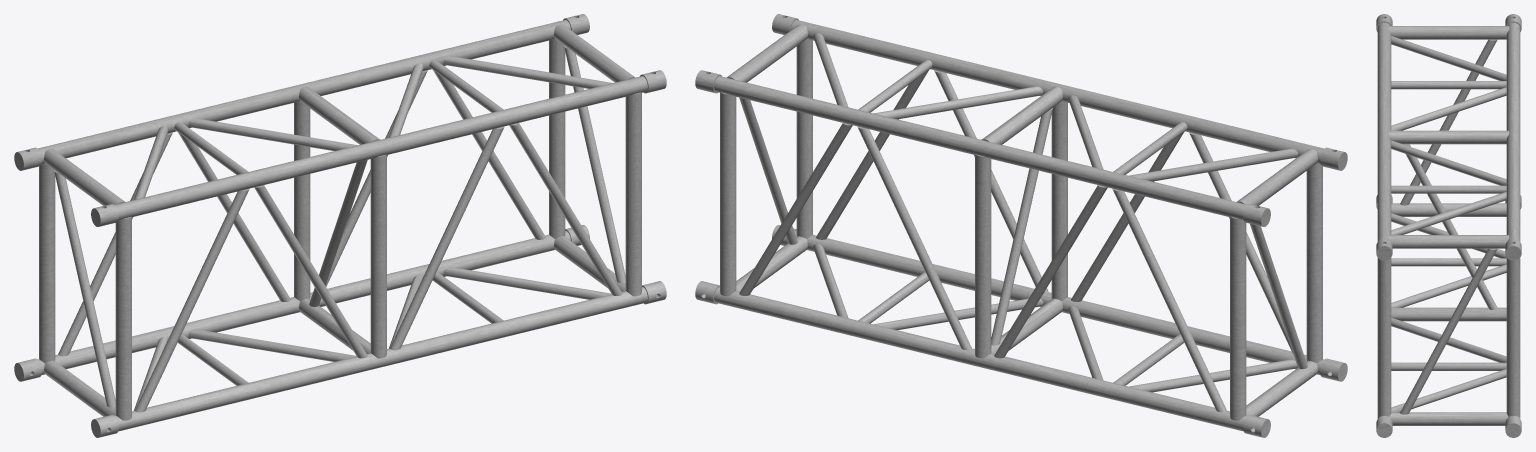
Rendered from Milos_M760_R_2000_truss_section-608367a0.glb.
3 views of the same model, side by side, from view 1: azimuth 30°, elevation 25°; view 2: azimuth 150°, elevation 25°; view 3: azimuth 270°, elevation 25° (orthographic). The views are drawn at different scales.
Visible parts, largest first — view 1: Geom3D; view 2: Geom3D; view 3: Geom3D.
Part boxes in pixels (<box>): Geom3D: <box>14,14,666,437</box>; Geom3D: <box>695,14,1347,437</box>; Geom3D: <box>1376,14,1521,437</box>.
Size of the model in its own units: 2 by 0.771 by 0.529.
1 material, 1 textured.
